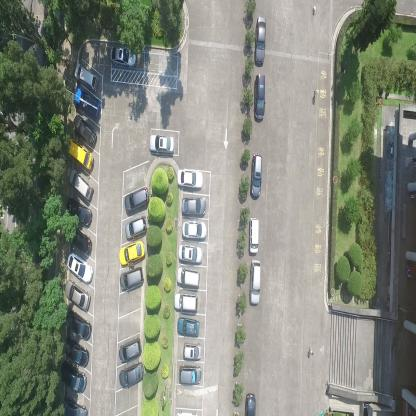car: (65, 250, 94, 284), (65, 138, 94, 171), (64, 307, 92, 341), (71, 87, 101, 118), (59, 360, 87, 392), (69, 167, 93, 202), (63, 281, 90, 312), (72, 113, 97, 146), (62, 337, 89, 367), (65, 198, 93, 226), (119, 238, 146, 267), (72, 63, 99, 92), (124, 184, 149, 214), (119, 359, 144, 389), (148, 131, 175, 157), (66, 228, 92, 255), (120, 264, 145, 292), (118, 336, 143, 364), (176, 166, 204, 190), (109, 44, 137, 68), (253, 72, 266, 121), (173, 290, 199, 314), (124, 214, 148, 240), (178, 243, 204, 266), (250, 258, 262, 306), (182, 219, 207, 242), (177, 364, 203, 386), (255, 14, 266, 65), (251, 152, 263, 198), (181, 196, 206, 218), (177, 266, 200, 288), (177, 316, 200, 338), (248, 216, 260, 257), (61, 397, 87, 415), (182, 342, 203, 362), (244, 392, 256, 416)
